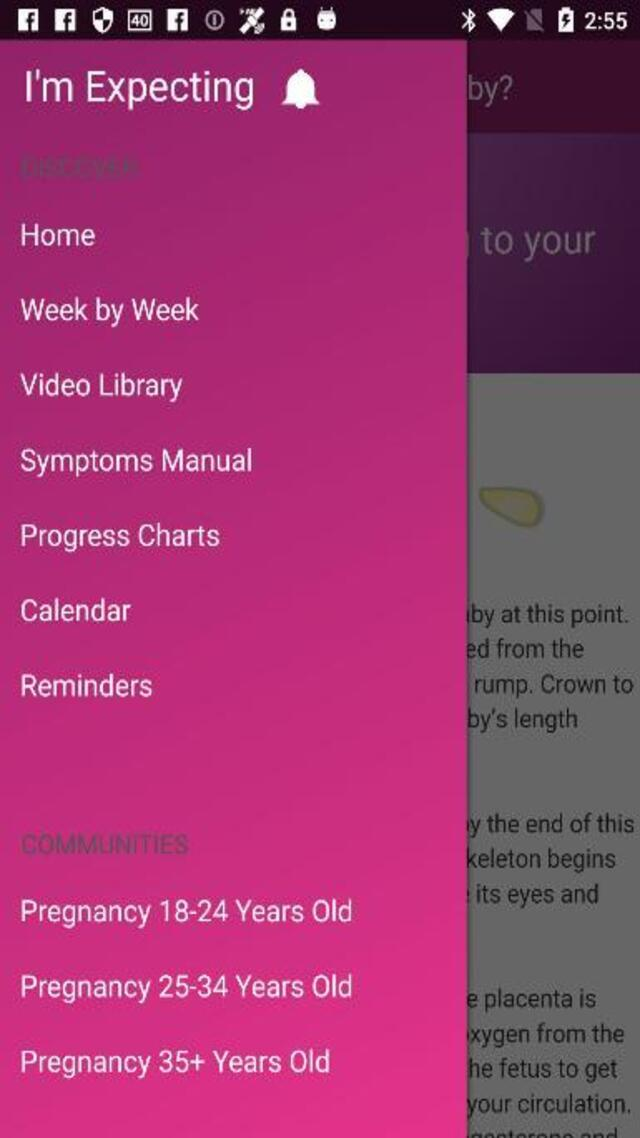Icon: (281, 69, 321, 110)
Text: (21, 897, 352, 927), (26, 68, 252, 111), (21, 974, 352, 1003), (20, 1048, 328, 1078), (21, 447, 252, 478), (22, 522, 220, 552), (19, 298, 200, 328), (20, 372, 183, 403), (21, 834, 188, 855), (22, 672, 152, 697), (22, 155, 138, 178), (20, 598, 130, 622), (22, 223, 94, 246)
